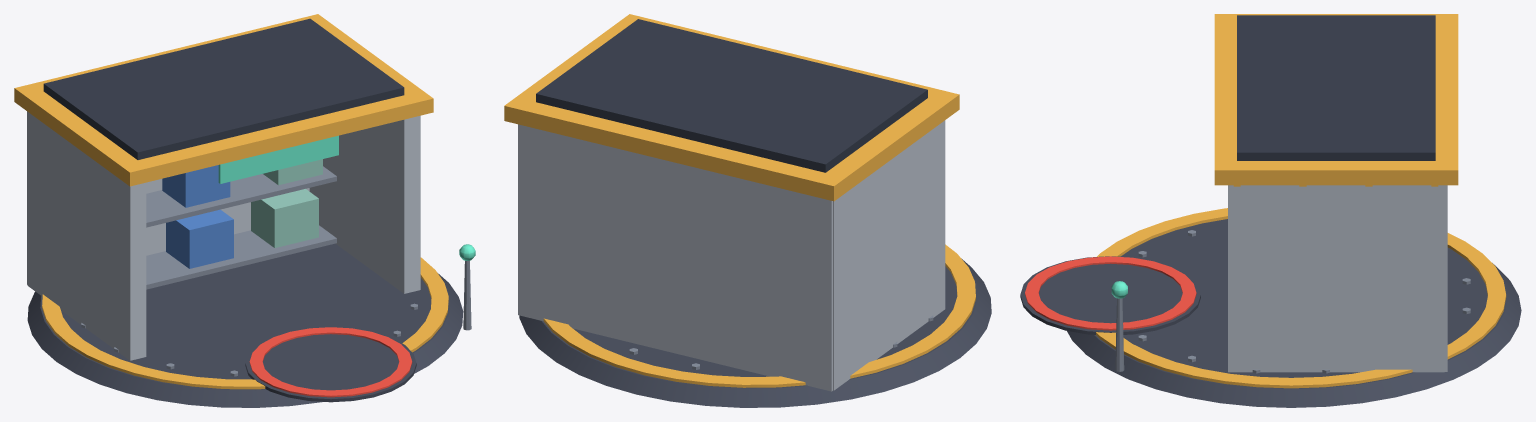
File: bestelllager.obj
3 views of the same model, side by side, from view 1: azimuth 30°, elevation 25°; view 2: azimuth 150°, elevation 25°; view 3: azimuth 270°, elevation 25° (orthographic). The views are drawn at different scales.
Parts seen in each view (by area): view 1: bestelllager_Koerper; view 2: bestelllager_Koerper; view 3: bestelllager_Koerper.
Boxes of the visible parts, bbox=[...] form: bestelllager_Koerper: bbox=[14, 14, 475, 407]; bestelllager_Koerper: bbox=[504, 14, 991, 407]; bestelllager_Koerper: bbox=[1020, 14, 1521, 407].
Bounding box in the file's own units: 5.1 × 2.77 × 5.55.
